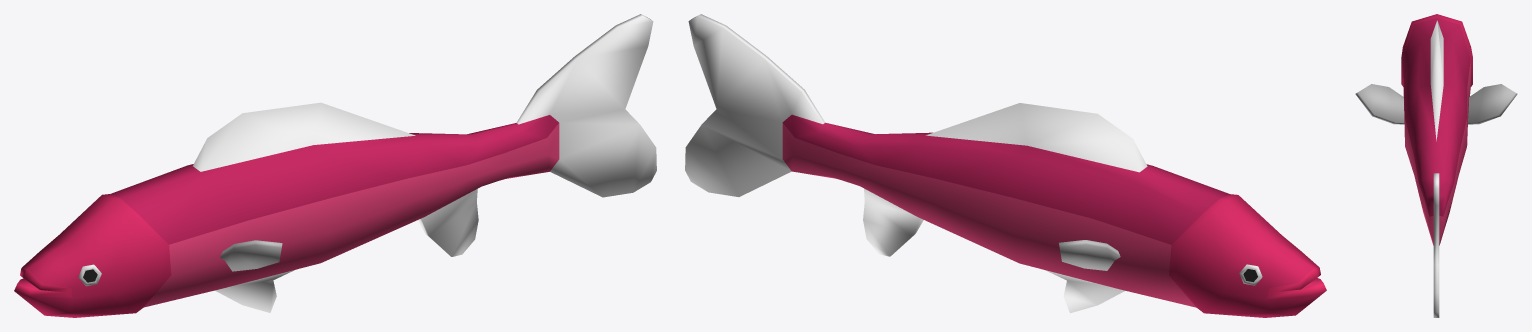
The model's file is Fish_017.glb.
3 renders of one model, left to right at view 1: azimuth 30°, elevation 25°; view 2: azimuth 150°, elevation 25°; view 3: azimuth 270°, elevation 25°, orthographic. The views are drawn at different scales.
Parts seen in each view (by area): view 1: Fish_017; view 2: Fish_017; view 3: Fish_017.
Part boxes in pixels (bbox=[...]): Fish_017: bbox=[14, 14, 656, 317]; Fish_017: bbox=[685, 14, 1326, 317]; Fish_017: bbox=[1355, 14, 1517, 317].
Size of the model in its own units: 1.28 by 0.3953 by 0.3439.
Materials: 1 (1 with a texture image).
